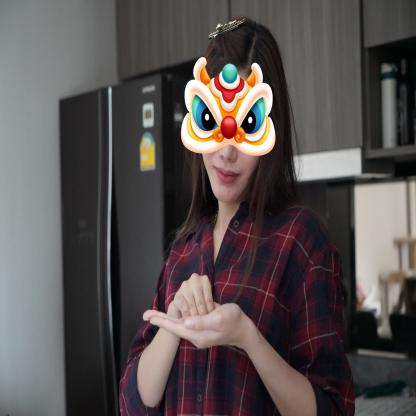Love: (132, 268, 256, 358)
